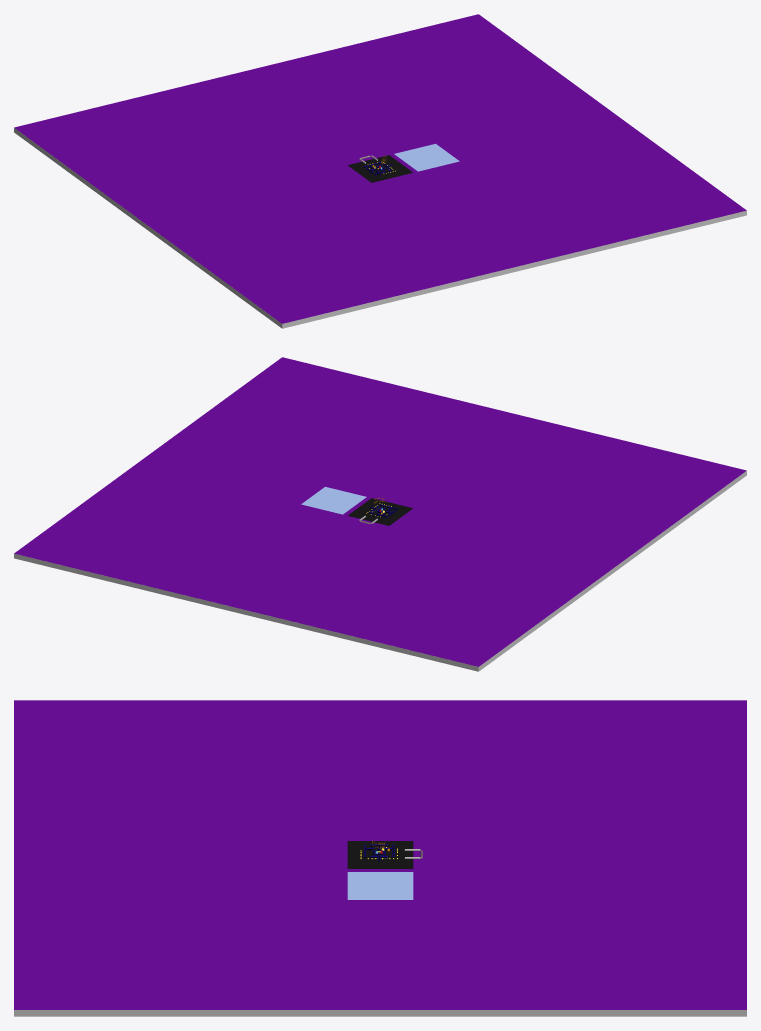
Rendered from world-1.glb.
The picture shows the model from 3 angles, top to bottom: view 1: azimuth 30°, elevation 25°; view 2: azimuth 150°, elevation 25°; view 3: azimuth 270°, elevation 25°; orthographic projection. The views are drawn at different scales.
Visible parts, largest first — view 1: Plane, Ground, Plot.001, Plot.002; view 2: Plane, Ground, Plot.001, Plot.002; view 3: Plane, Ground, Plot.001, Plot.002.
Part boxes in pixels (x1,y1,x2,y2): Plane: (14,14,746,323); Ground: (14,128,746,328); Plot.001: (394,143,459,171); Plot.002: (348,155,412,182); Plane: (14,357,746,666); Ground: (14,471,746,671); Plot.001: (301,486,366,514); Plot.002: (348,498,412,525); Plane: (14,700,746,1009); Ground: (14,1010,746,1016); Plot.001: (347,872,413,899); Plot.002: (347,841,413,868).
Size of the model in its own units: 200 by 15.34 by 200.
Materials: 11 (1 with a texture image).
